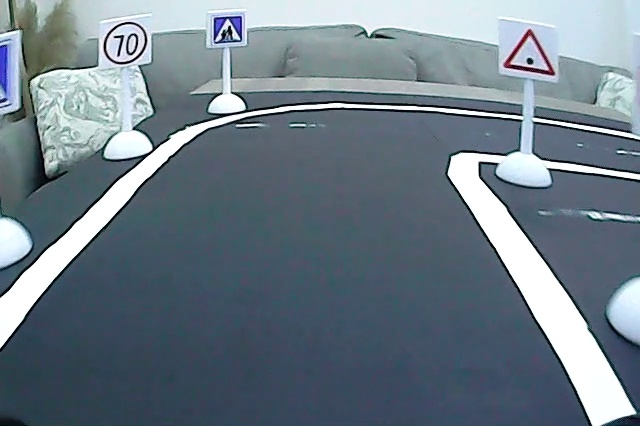green light: (500, 25, 559, 77)
school crossing: (212, 14, 244, 45)
speed limit 70: (103, 18, 149, 66)
